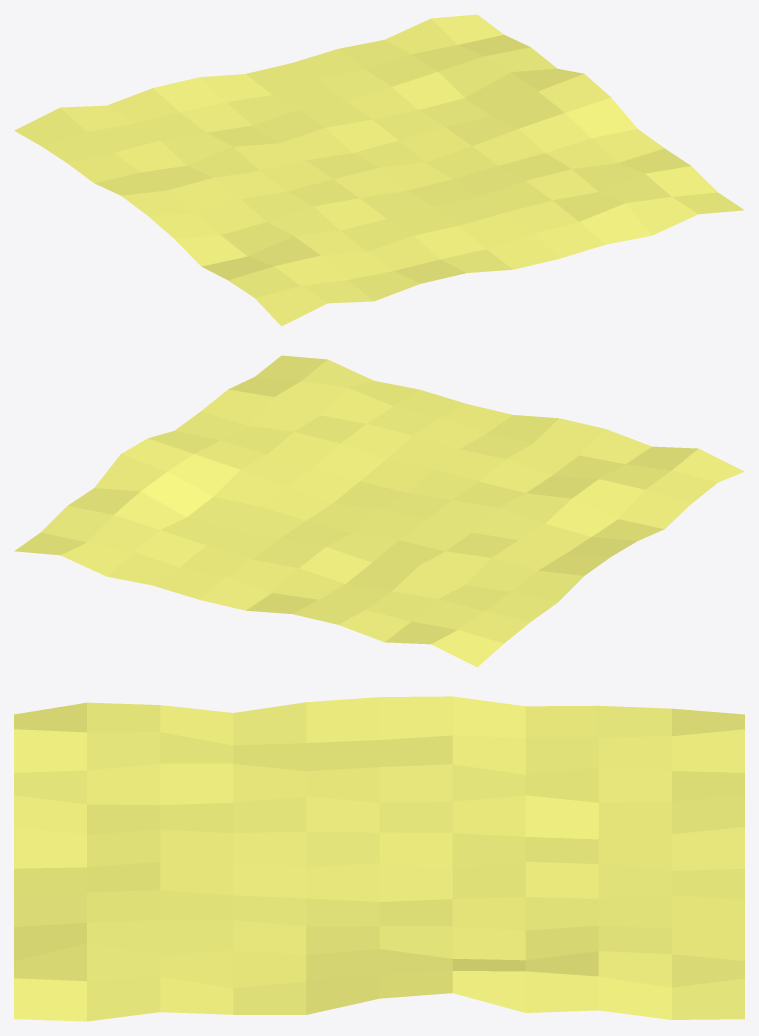
Rendered from terrain1b2.fbx.
The picture shows the model from 3 angles, top to bottom: view 1: azimuth 30°, elevation 25°; view 2: azimuth 150°, elevation 25°; view 3: azimuth 270°, elevation 25°; orthographic projection. The views are drawn at different scales.
Visible parts, largest first — view 1: Plane.006; view 2: Plane.006; view 3: Plane.006.
Part boxes in pixels (left/top/right/bottom): Plane.006: left=14, top=14, right=744, bottom=326; Plane.006: left=14, top=355, right=744, bottom=667; Plane.006: left=14, top=696, right=744, bottom=1021.
Size of the model in its own units: 2000 by 98.04 by 2000.
